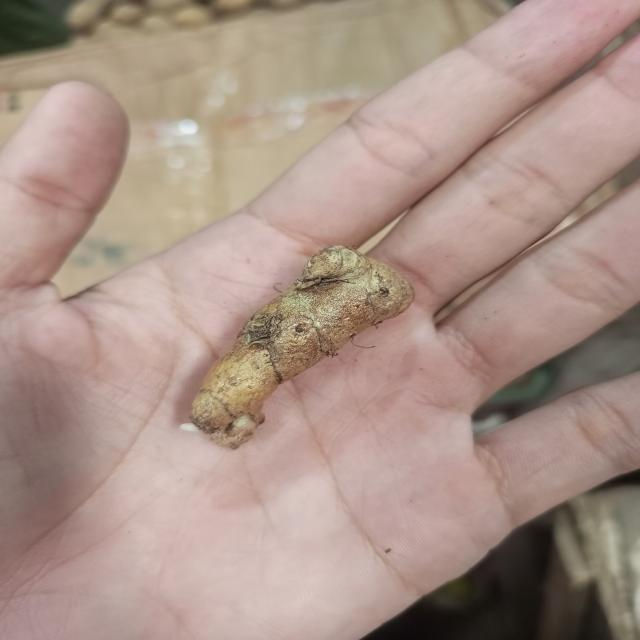ginger: (183, 250, 407, 430)
